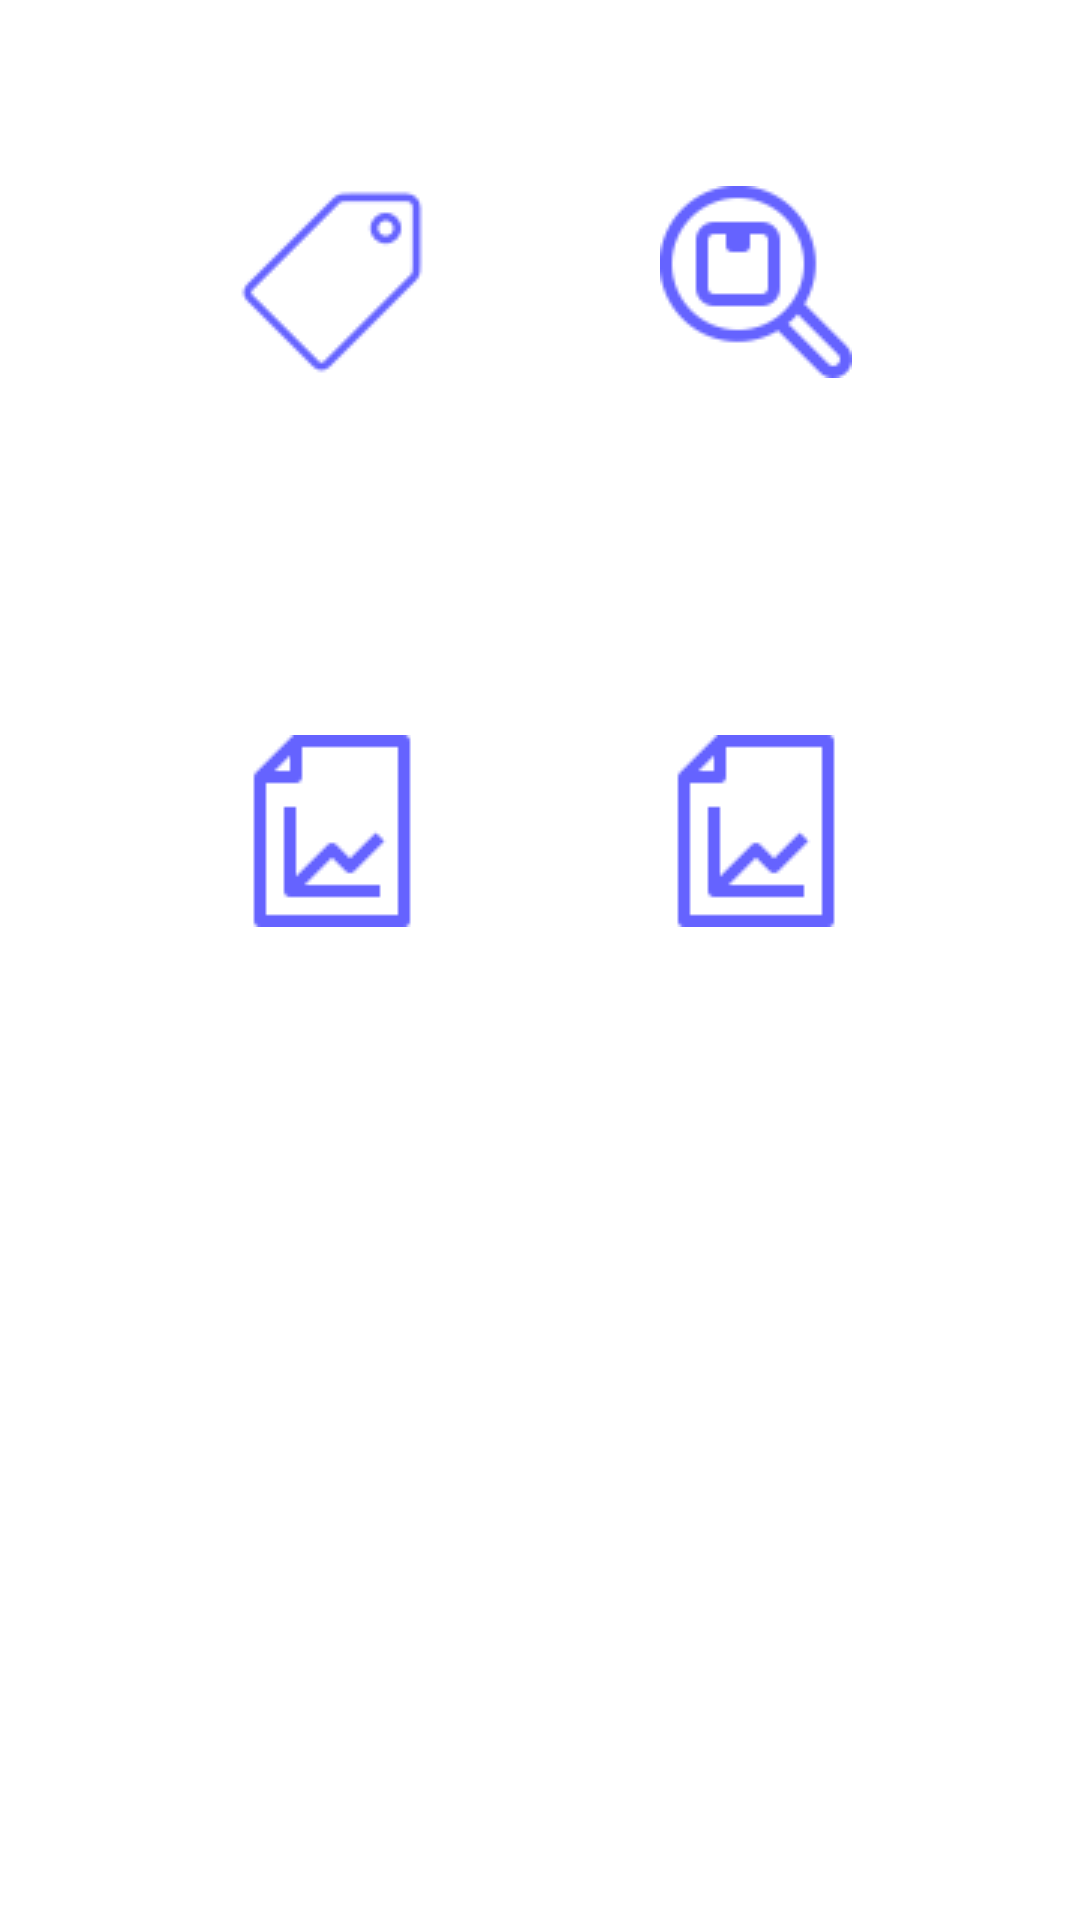

Locate icon controls on the screen. Image size 1080 × 1920, boxes as (x1, y1, x2, y2).
pricetag mainblue: (242, 192, 422, 372)
product inquiry mainblue: (660, 186, 852, 378)
product reports mainblue: (253, 735, 411, 927), (677, 735, 835, 927)
